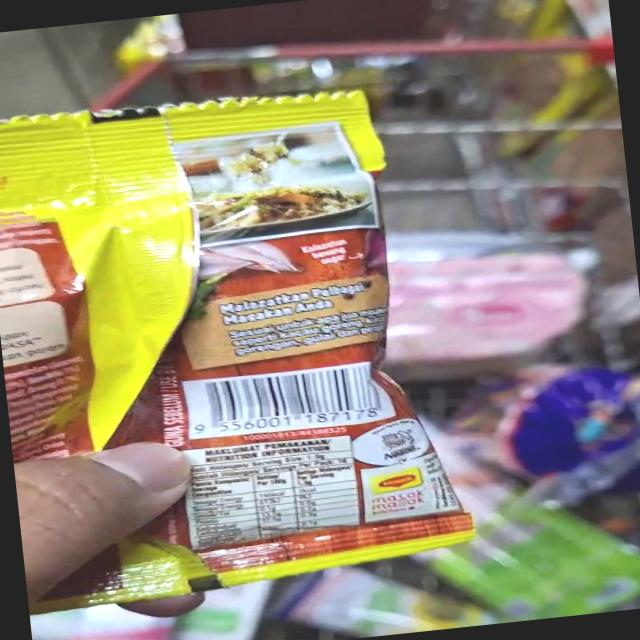Maggi Cukup Rasa: (0, 73, 442, 608)
